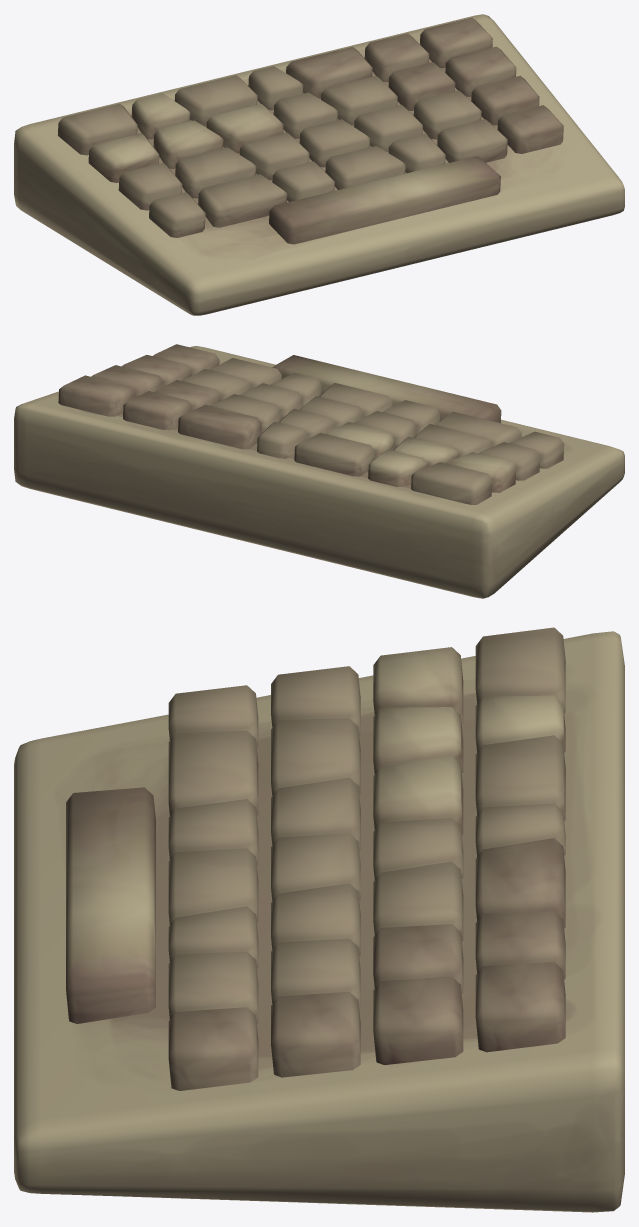
Rendered from PRP_Keyboard.fbx.
The picture shows the model from 3 angles, top to bottom: view 1: azimuth 30°, elevation 25°; view 2: azimuth 150°, elevation 25°; view 3: azimuth 270°, elevation 25°; orthographic projection. The views are drawn at different scales.
Visible parts, largest first — view 1: Cube; view 2: Cube; view 3: Cube.
Part boxes in pixels (x1,y1,x2,y2): Cube: (14,14,624,315); Cube: (14,344,624,598); Cube: (14,627,624,1212).
Bounding box in the file's own units: 292 × 56.74 × 171.
1 material, 1 textured.
